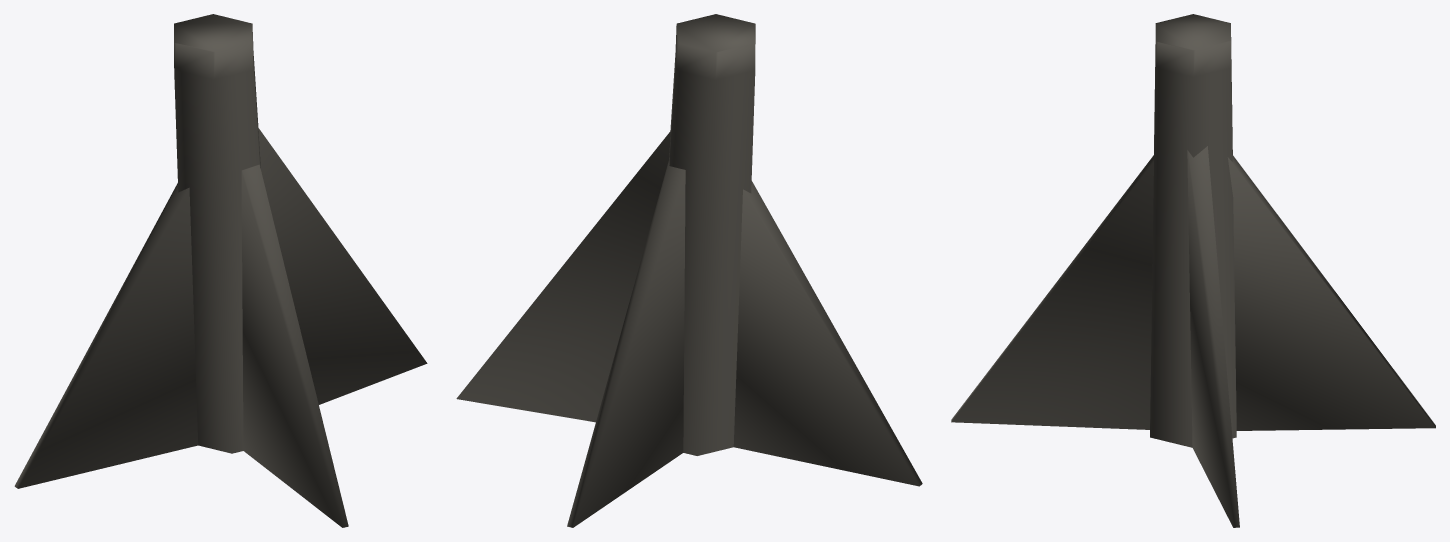
The model's file is broadleaf_a_low.glb.
3 views of the same model, side by side, from view 1: azimuth 30°, elevation 25°; view 2: azimuth 150°, elevation 25°; view 3: azimuth 270°, elevation 25° (orthographic). The views are drawn at different scales.
Parts seen in each view (by area): view 1: broadleaf_a_low; view 2: broadleaf_a_low; view 3: broadleaf_a_low.
Part boxes in pixels (x1,y1,x2,y2): broadleaf_a_low: (14,14,427,527); broadleaf_a_low: (456,14,922,527); broadleaf_a_low: (951,14,1435,527).
Size of the model in its own units: 1.92 by 1.7 by 1.94.
Materials: 1 (1 with a texture image).
